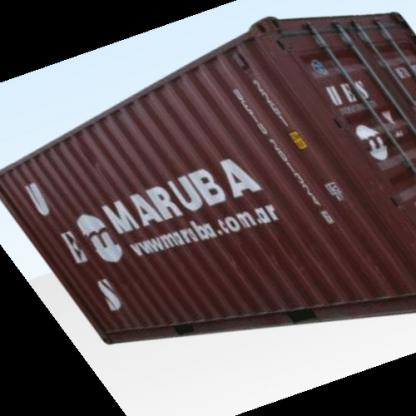Damage: (212, 217, 322, 269), (76, 139, 122, 191), (306, 51, 348, 90)
